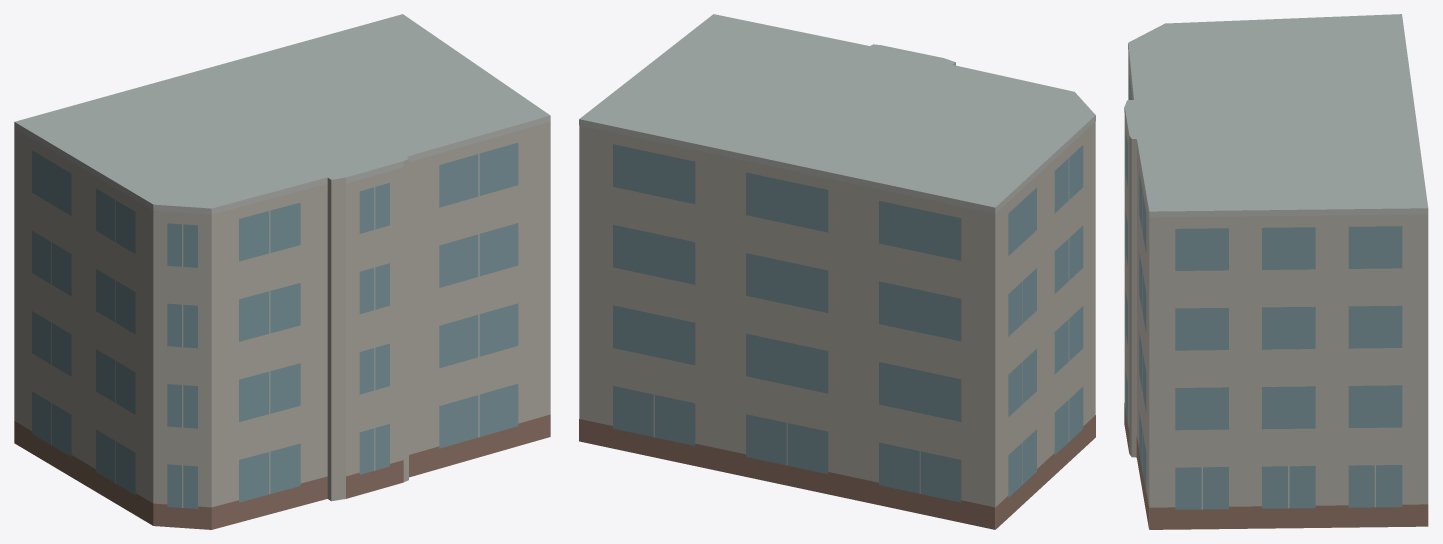
File: survey-upis-32735044.glb
3 views of the same model, side by side, from view 1: azimuth 30°, elevation 25°; view 2: azimuth 150°, elevation 25°; view 3: azimuth 270°, elevation 25° (orthographic).
Parts seen in each view (by area): view 1: survey-upis-32735044.tmp; view 2: survey-upis-32735044.tmp; view 3: survey-upis-32735044.tmp.
Boxes of the visible parts, x1,y1,x2,y2 form: survey-upis-32735044.tmp: [14, 14, 550, 529]; survey-upis-32735044.tmp: [579, 14, 1095, 529]; survey-upis-32735044.tmp: [1124, 14, 1428, 529].
Bounding box in the file's own units: 17.05 × 12.8 × 11.08.
